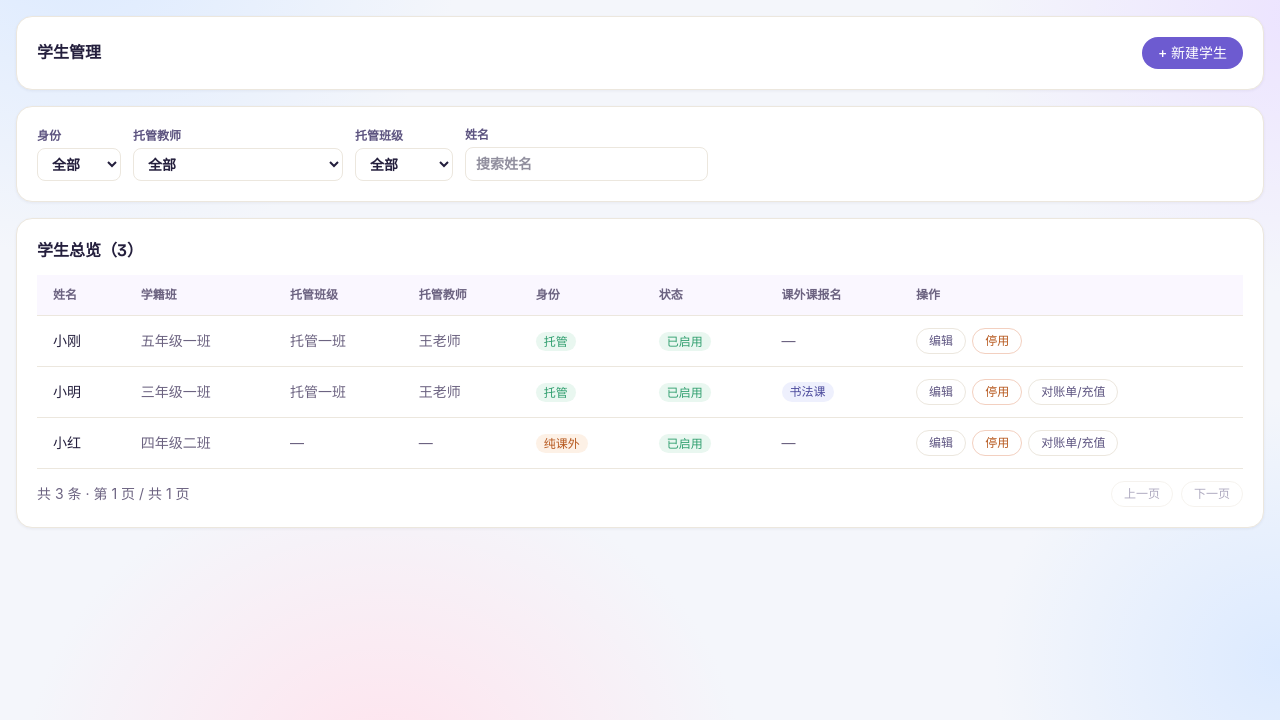
Test: AdminStudentsModule › pre-checks the courses a student is already enrolled in when editing
Click the button with aria-label "编辑小明": (941, 392) x1=916 y1=379 x2=966 y2=405
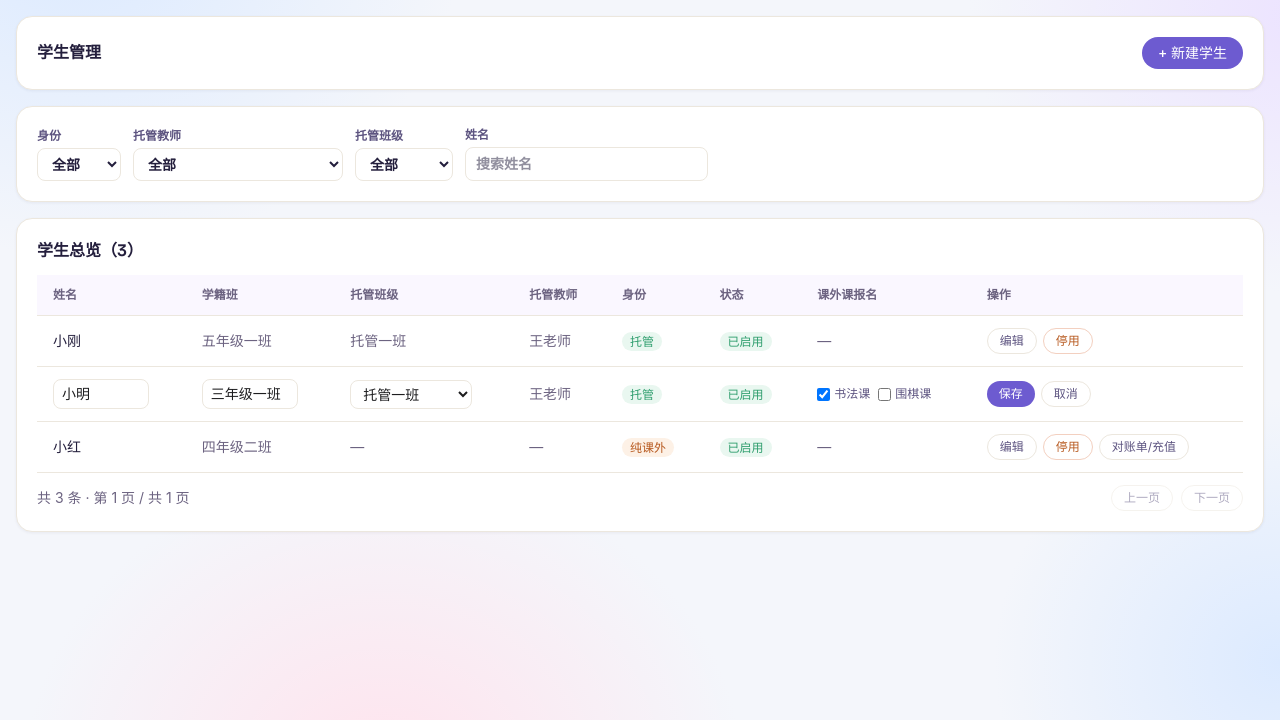
Expected: the checkbox named "书法课1" is checked, x1=817 y1=388 x2=830 y2=400
Expected: the checkbox named "围棋课1" is not checked, x1=878 y1=388 x2=891 y2=400
